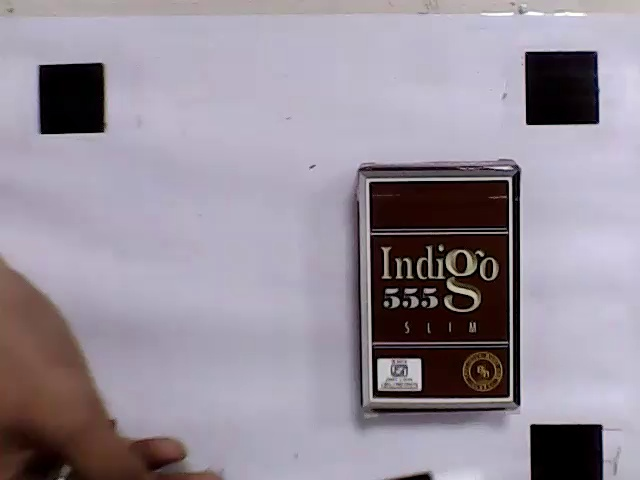BEX: (368, 177, 511, 401)
